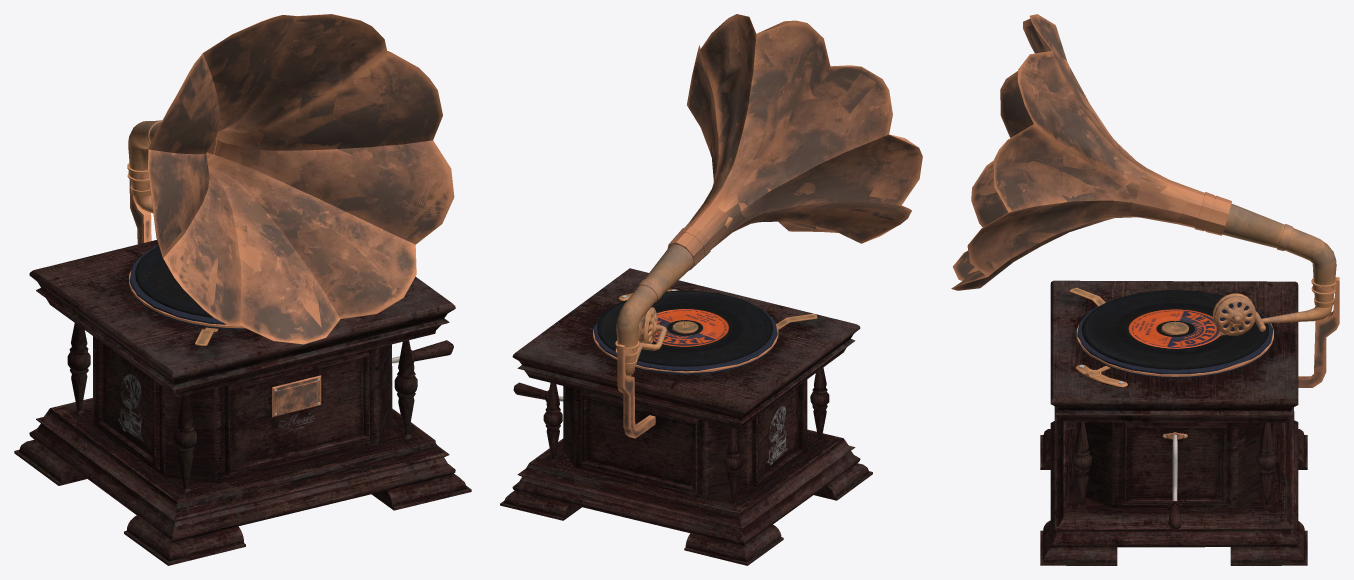
File: gramophone.glb
3 views of the same model, side by side, from view 1: azimuth 30°, elevation 25°; view 2: azimuth 150°, elevation 25°; view 3: azimuth 270°, elevation 25° (orthographic). The views are drawn at different scales.
Visible parts, largest first — view 1: Object_6, Object_5, Object_4, Object_3, Object_8; view 2: Object_5, Object_6, Object_4, Object_3, Object_8; view 3: Object_5, Object_6, Object_4, Object_3, Object_8.
Part boxes in pixels (left/top/right/bottom): Object_6: left=128, top=14, right=454, bottom=417; Object_5: left=14, top=240, right=471, bottom=565; Object_4: left=135, top=245, right=213, bottom=317; Object_3: left=127, top=120, right=218, bottom=345; Object_8: left=129, top=245, right=247, bottom=329; Object_5: left=500, top=268, right=872, bottom=565; Object_6: left=593, top=14, right=922, bottom=438; Object_4: left=597, top=290, right=772, bottom=366; Object_3: left=615, top=244, right=817, bottom=376; Object_8: left=593, top=301, right=777, bottom=374; Object_5: left=1040, top=280, right=1307, bottom=565; Object_6: left=951, top=14, right=1339, bottom=439; Object_4: left=1081, top=290, right=1268, bottom=369; Object_3: left=1069, top=204, right=1336, bottom=387; Object_8: left=1077, top=294, right=1273, bottom=377.
Bounding box in the file's own units: 0.7745 × 0.9754 × 0.7488.
6 materials, 6 textured.
